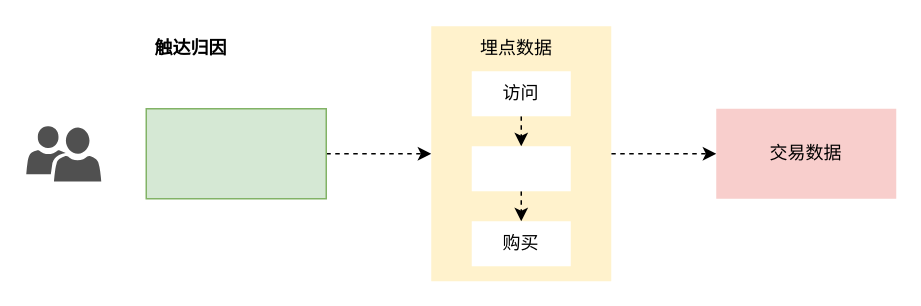
Image size: 921x306. Some labels were removed from this diagram. The box of each missing label's shape, as (x1, y1, x2, y2) in pixels:
点击: (471, 146, 570, 190)
触达日志: (145, 107, 326, 199)
